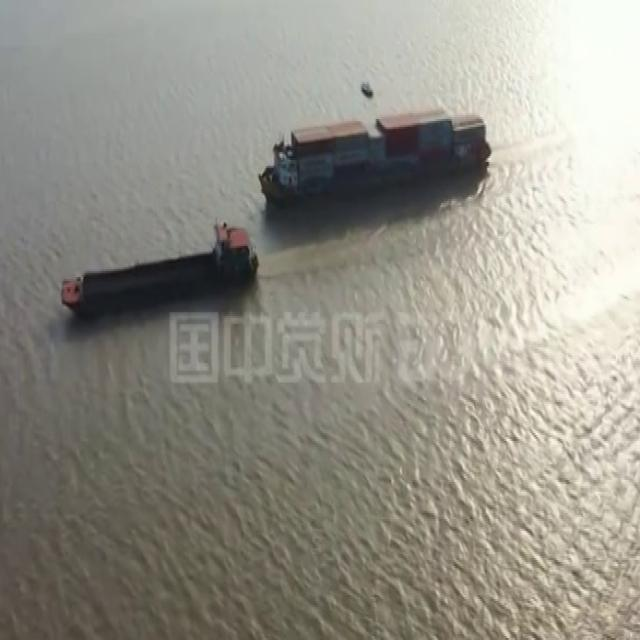cargoship: (55, 202, 268, 311), (277, 82, 490, 188)
